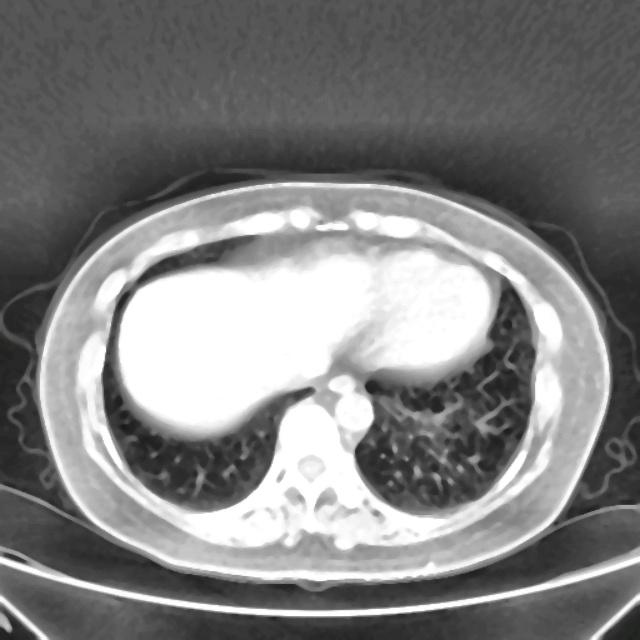covid: (25, 169, 612, 588)
